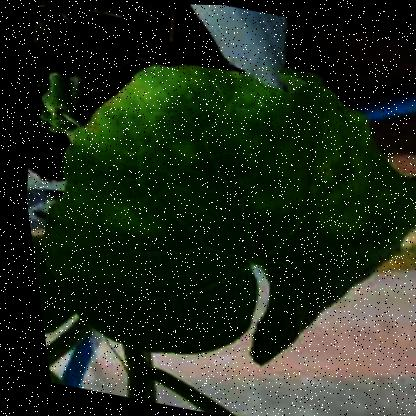CassavaMosaicDisease: (36, 31, 410, 278)
Normal: (67, 233, 220, 350), (231, 263, 349, 378)
